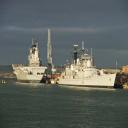Portanaves: (12, 36, 51, 86)
